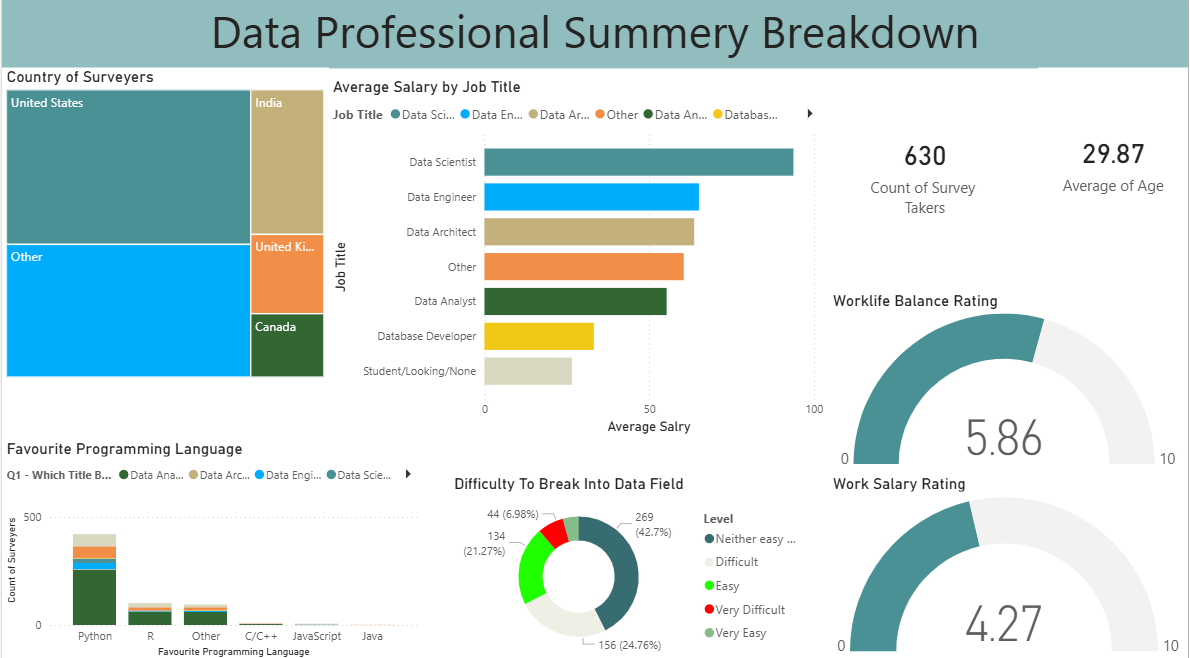

What the dashboard file says about the page in this screenshot:
{"tool":"powerbi","page":{"name":"Page 1","canvas":[1280,720],"ordinal":0},"visuals":[{"type":"textbox","box":[0,0,1280.3,79.6],"z":0},{"type":"card","fields":{"Values":["CountNonNull(Data Professional Survey.Unique ID)"]},"box":[904.9,80.3,182,203.3],"z":1000},{"type":"card","fields":{"Values":["Avg(Data Professional Survey.Q10 - Current Age)"]},"box":[1118,78.7,162.3,204.9],"z":2000},{"type":"barChart","title":"Average Salary by Job Title ","fields":{"Category":["Data Professional Survey.Q1 - Which Title Best Fits your Current Role?.1"],"Y":["Avg(Data Professional Survey.Average Salary)"],"Series":["Data Professional Survey.Q1 - Which Title Best Fits your Current Role?.1"]},"box":[352.5,88.5,539.3,390.2],"z":3000},{"type":"columnChart","title":"Favourite Programming Language","fields":{"Category":["Data Professional Survey.Q5 - Favorite Programming Language.1"],"Y":["CountNonNull(Data Professional Survey.Unique ID)"],"Series":["Data Professional Survey.Q1 - Which Title Best Fits your Current Role?.1"]},"box":[0,479,453,241],"z":4000},{"type":"treemap","title":"Country of Surveyers","fields":{"Group":["Data Professional Survey.Q11 - Which Country do you live in?.1"],"Values":["CountNonNull(Data Professional Survey.Q11 - Which Country do you live in?.1)"]},"box":[0,78.7,352.5,339.3],"z":4001},{"type":"gauge","title":"Worklife Balance Rating","fields":{"Y":["Avg(Data Professional Survey.Q6 - How Happy are you in your Current Position with the following? (Coworkers))"],"MinValue":["Min(Data Professional Survey.Q6 - How Happy are you in your Current Position with the following? (Coworkers))1"],"MaxValue":["Max(Data Professional Survey.Q6 - How Happy are you in your Current Position with the following? (Coworkers))2"]},"box":[891.8,319.7,388.5,196.7],"z":4002},{"type":"gauge","title":"Work Salary Rating","fields":{"Y":["Avg(Data Professional Survey.Q6 - How Happy are you in your Current Position with the following? (Salary))"],"MinValue":["Min(Data Professional Survey.Q6 - How Happy are you in your Current Position with the following? (Salary))"],"MaxValue":["Max(Data Professional Survey.Q6 - How Happy are you in your Current Position with the following? (Salary))"]},"box":[891.8,516.4,388.5,203.3],"z":4003},{"type":"donutChart","title":"Difficulty To Break Into Data Field","fields":{"Category":["Data Professional Survey.Q7 - How difficult was it for you to break into Data?"],"Y":["CountNonNull(Data Professional Survey.Q7 - How difficult was it for you to break into Data?)"]},"box":[483.6,516.4,395.1,203.3],"z":4004}]}

Visuals, with their boxes in screenshot pixels (x1, y1, x2, y2), scaled from the page's 1280x720 canvas onto the 1190x658 screenshot:
textbox: [left=0, top=0, right=1189, bottom=73]
card - CountNonNull(Data Professional Survey.Unique ID): [left=841, top=73, right=1010, bottom=259]
card - Avg(Data Professional Survey.Q10 - Current Age): [left=1039, top=72, right=1189, bottom=259]
"Average Salary by Job Title " barChart: [left=328, top=81, right=829, bottom=437]
"Favourite Programming Language" columnChart: [left=0, top=438, right=421, bottom=657]
"Country of Surveyers" treemap: [left=0, top=72, right=328, bottom=382]
"Worklife Balance Rating" gauge: [left=829, top=292, right=1189, bottom=472]
"Work Salary Rating" gauge: [left=829, top=472, right=1189, bottom=657]
"Difficulty To Break Into Data Field" donutChart: [left=450, top=472, right=817, bottom=657]
